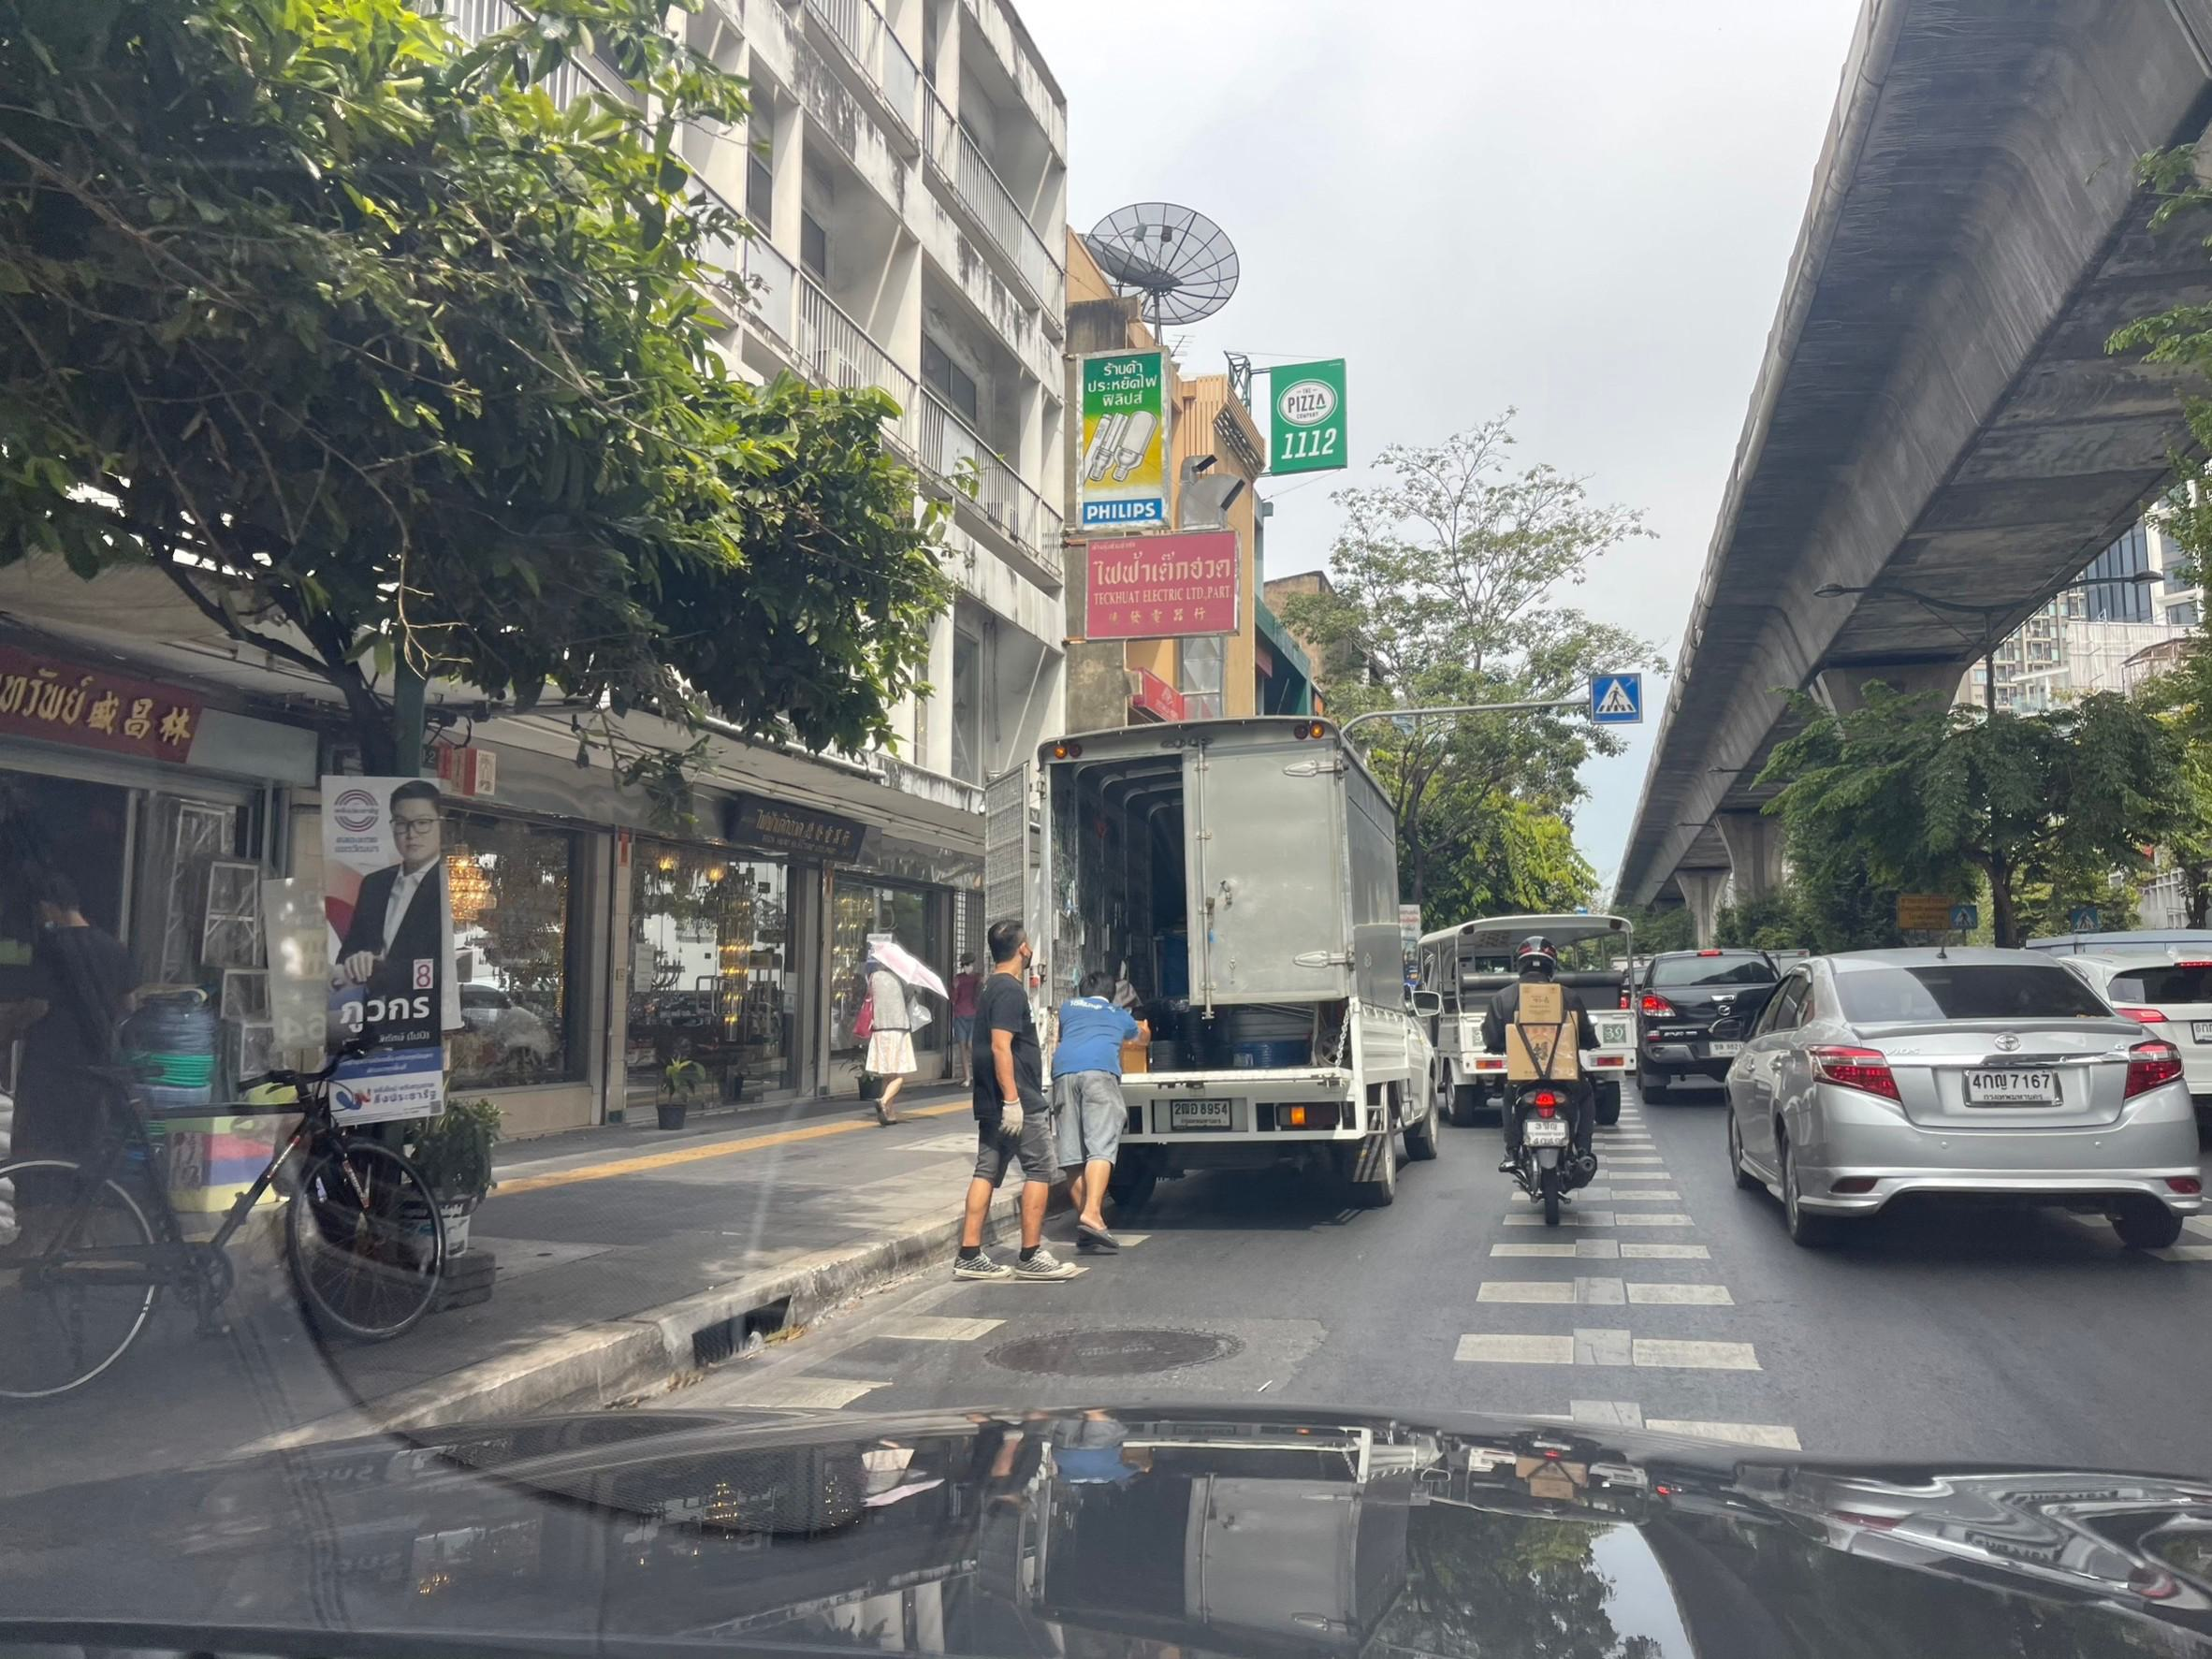Banner: (312, 753, 462, 1133)
